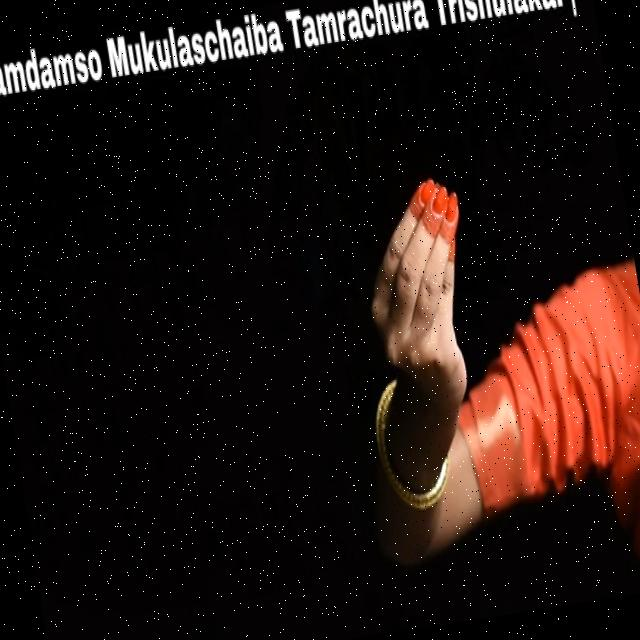Mukula: (336, 127, 524, 454)
bangle: (365, 389, 460, 529)
text: (0, 0, 585, 123)
